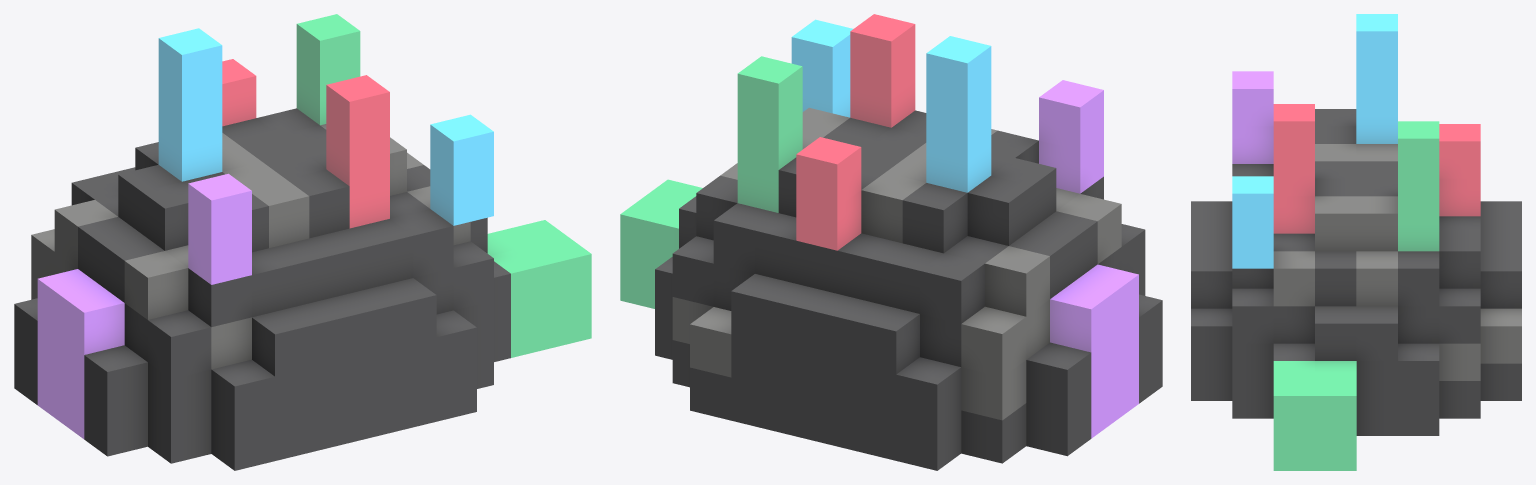
Rendered from r_gems.glb.
3 views of the same model, side by side, from view 1: azimuth 30°, elevation 25°; view 2: azimuth 150°, elevation 25°; view 3: azimuth 270°, elevation 25° (orthographic). The views are drawn at different scales.
Visible parts, largest first — view 1: r_gems_body; view 2: r_gems_body; view 3: r_gems_body.
Boxes of the visible parts, bbox=[...] form: r_gems_body: bbox=[14, 14, 591, 470]; r_gems_body: bbox=[620, 14, 1162, 470]; r_gems_body: bbox=[1191, 14, 1521, 470].
Bounding box in the file's own units: 0.75 × 0.5 × 0.5.
Materials: 1 (1 with a texture image).
